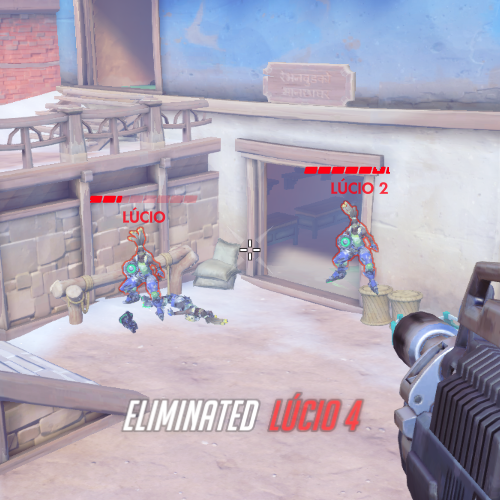hpbar: (89, 195, 198, 203), (304, 166, 391, 175)
